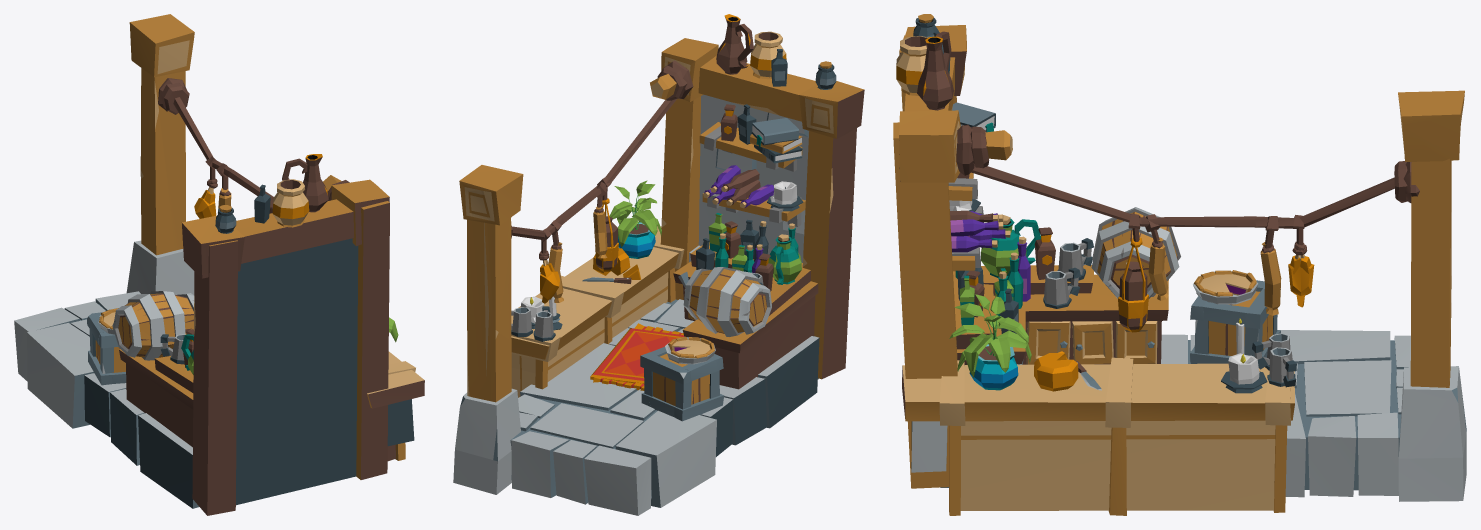
File: Bar.glb
The picture shows the model from 3 angles, left to right: view 1: azimuth 30°, elevation 25°; view 2: azimuth 150°, elevation 25°; view 3: azimuth 270°, elevation 25°; orthographic projection. The views are drawn at different scales.
Visible parts, largest first — view 1: node_MeshObject761652224-PolyPaper12, node_MeshObject1333731328-PolyPaper19; view 2: node_MeshObject761652224-PolyPaper12, node_MeshObject1333731328-PolyPaper19; view 3: node_MeshObject761652224-PolyPaper12, node_MeshObject1333731328-PolyPaper19.
Boxes of the visible parts, box(x1,y1,x2,y2) form: node_MeshObject761652224-PolyPaper12: box(14, 14, 414, 508); node_MeshObject1333731328-PolyPaper19: box(87, 154, 424, 515); node_MeshObject761652224-PolyPaper12: box(453, 38, 819, 515); node_MeshObject1333731328-PolyPaper19: box(511, 14, 864, 421); node_MeshObject761652224-PolyPaper12: box(893, 57, 1466, 501); node_MeshObject1333731328-PolyPaper19: box(896, 14, 1294, 515).
Size of the model in its own units: 2.41 by 3.38 by 4.1.
